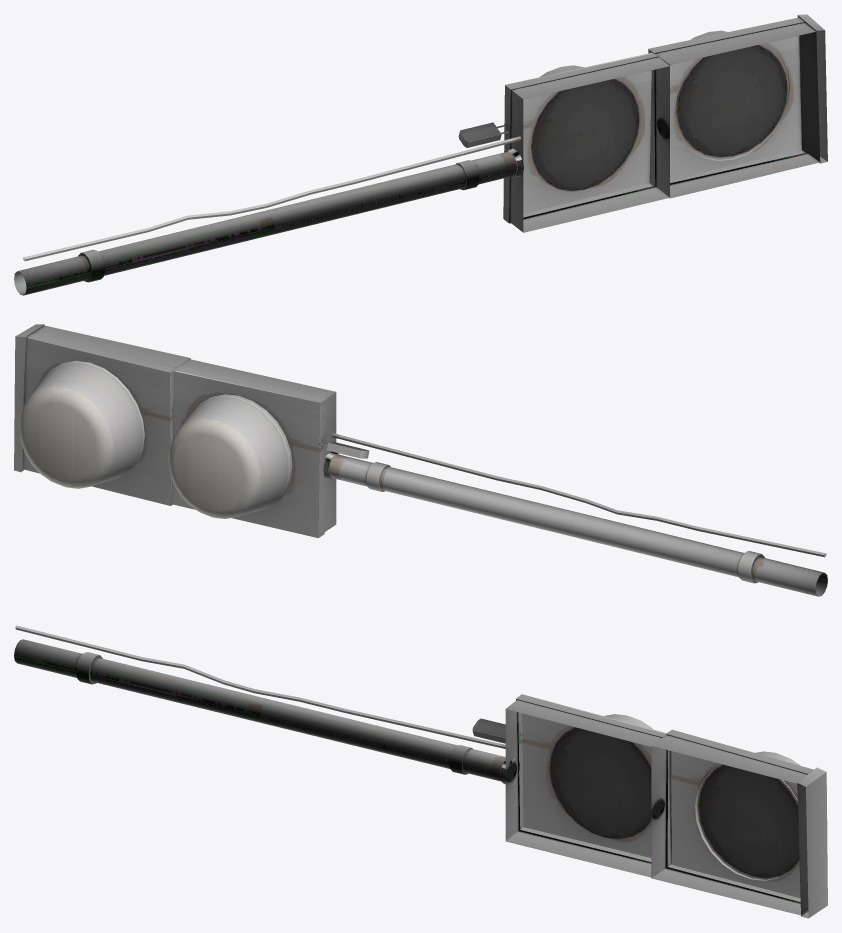
File: props_mining_junctionbox01.glb
The picture shows the model from 3 angles, top to bottom: view 1: azimuth 30°, elevation 25°; view 2: azimuth 150°, elevation 25°; view 3: azimuth 330°, elevation 25°; orthographic projection.
Visible parts, largest first — view 1: models/props_mining/junctionbox01; view 2: models/props_mining/junctionbox01; view 3: models/props_mining/junctionbox01.
Part boxes in pixels (x1,y1,x2,y2): models/props_mining/junctionbox01: (14,14,827,295); models/props_mining/junctionbox01: (14,324,827,596); models/props_mining/junctionbox01: (14,625,827,918).
Size of the model in its own units: 103 by 17.35 by 11.19.
Materials: 1 (1 with a texture image).
